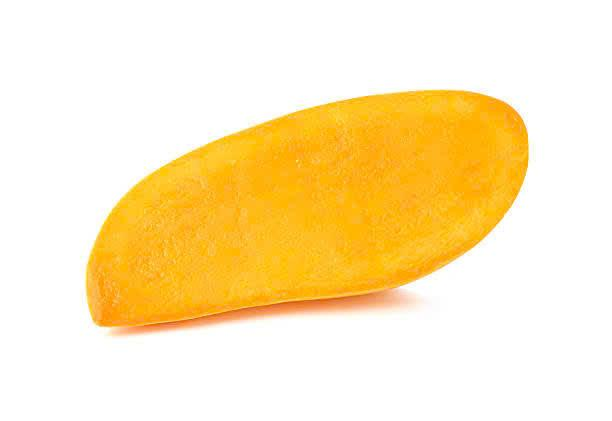mango: (70, 77, 530, 340)
